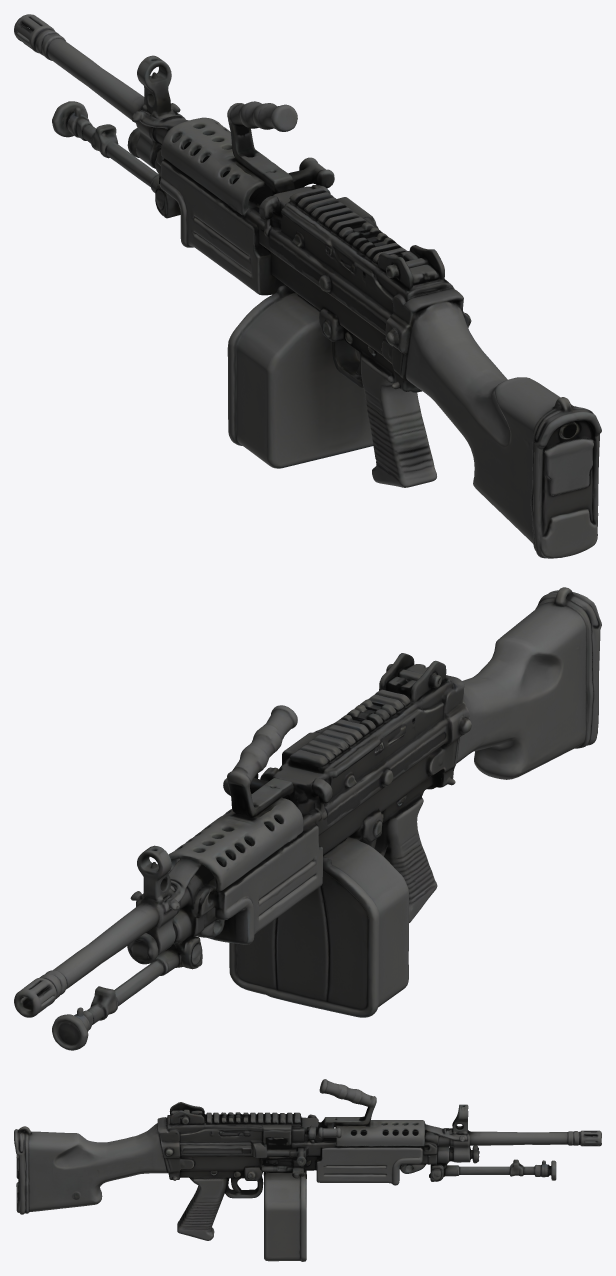
File: w_LMG-R5DX4EC3.glb
3 renders of one model, top to bottom at view 1: azimuth 30°, elevation 25°; view 2: azimuth 150°, elevation 25°; view 3: azimuth 270°, elevation 25°, orthographic. The views are drawn at different scales.
Bounding box in the file's own units: 0.1474 × 0.2985 × 0.95.
1 material, 1 textured.
